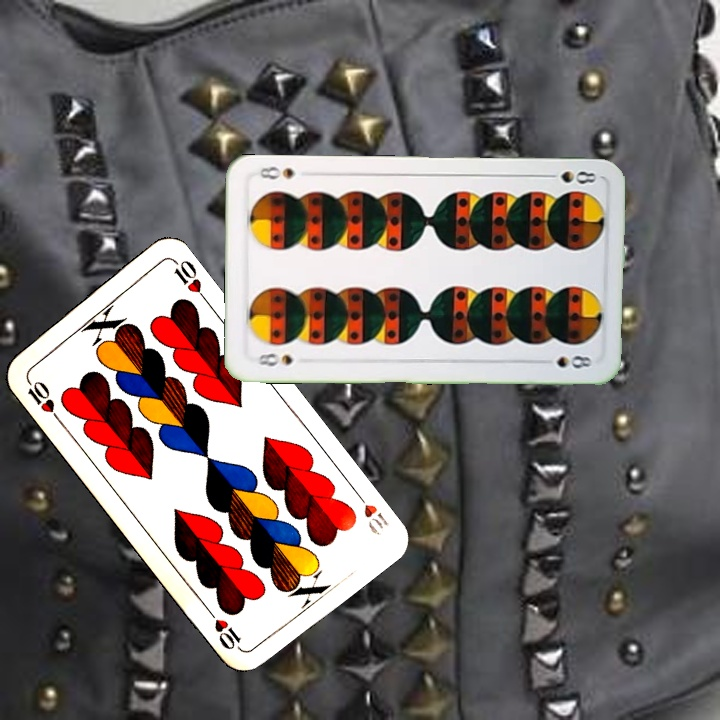H10: (349, 485, 390, 539), (21, 372, 62, 424)
S8: (540, 166, 599, 186), (254, 349, 295, 370)
